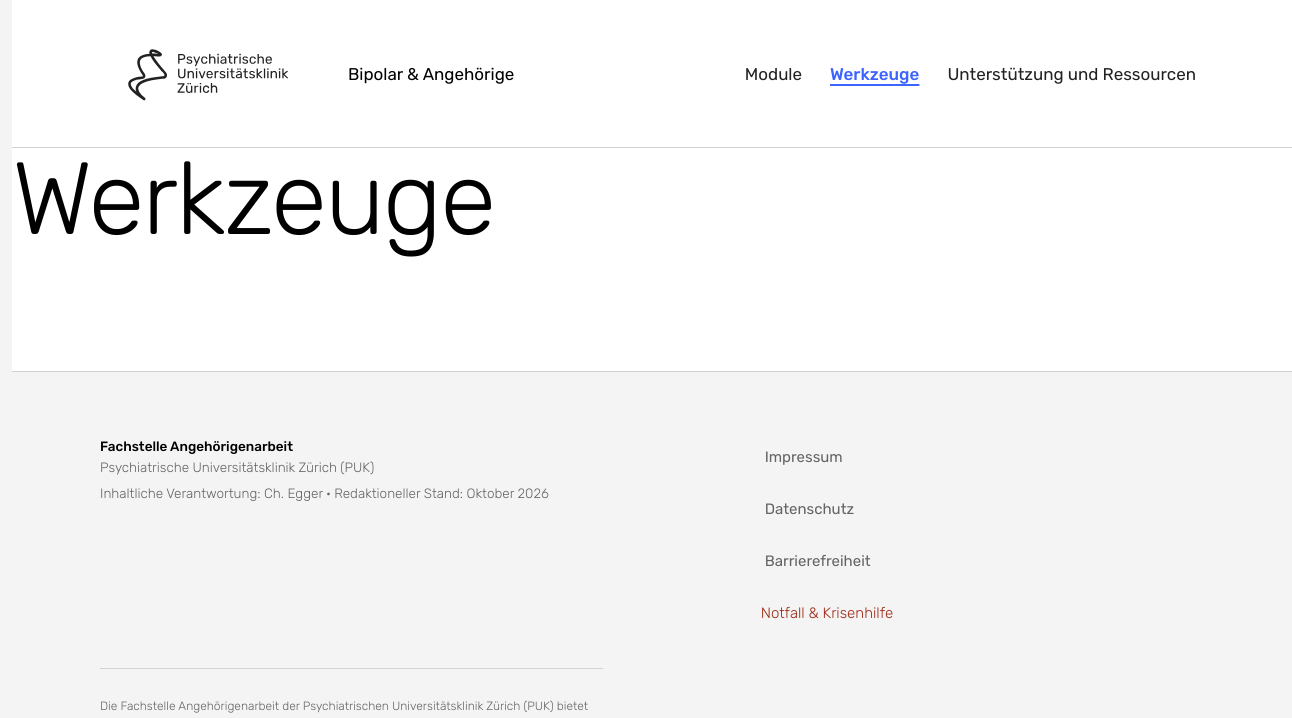
Test: committed page navigation › lets a new client navigation cancel a queued history destination
What coordinates should you click on to do the following:
click the link "Module"
I would click on:
 (773, 74)
Its box is [745, 64, 802, 84].
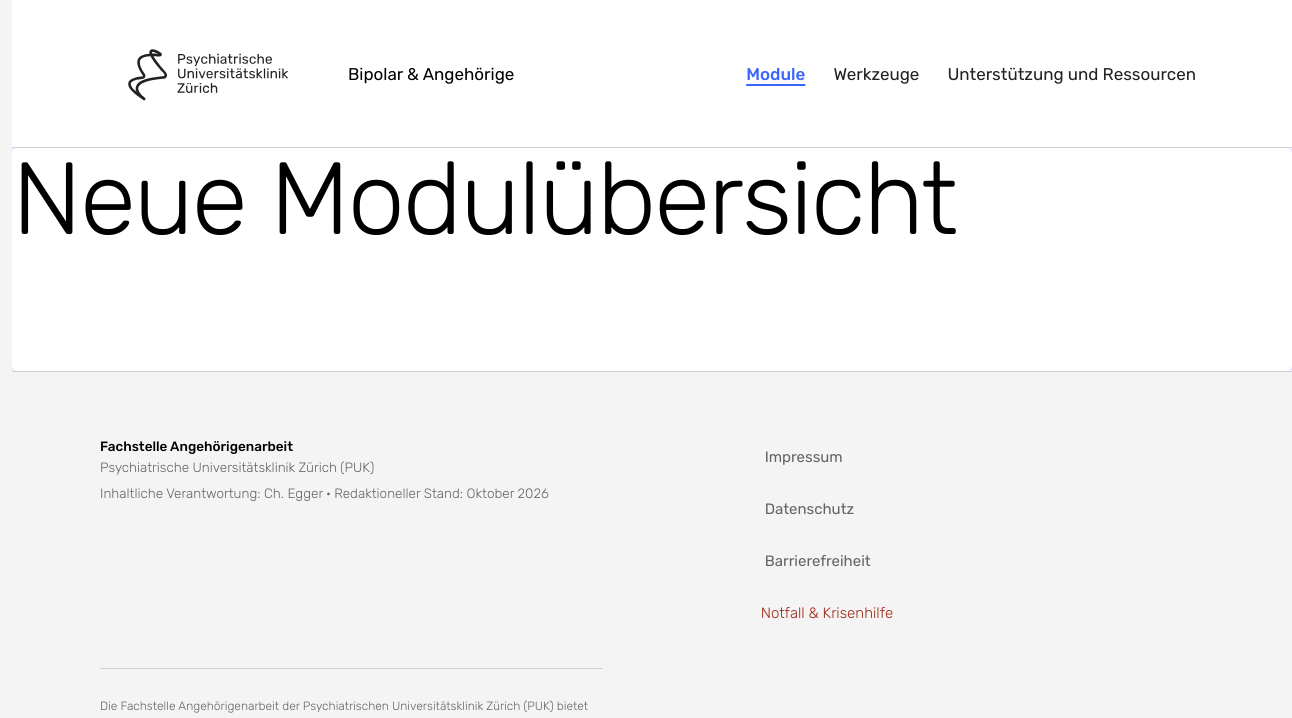
Now the heading "Neue Modulübersicht" is shown, box [12, 138, 956, 260]
